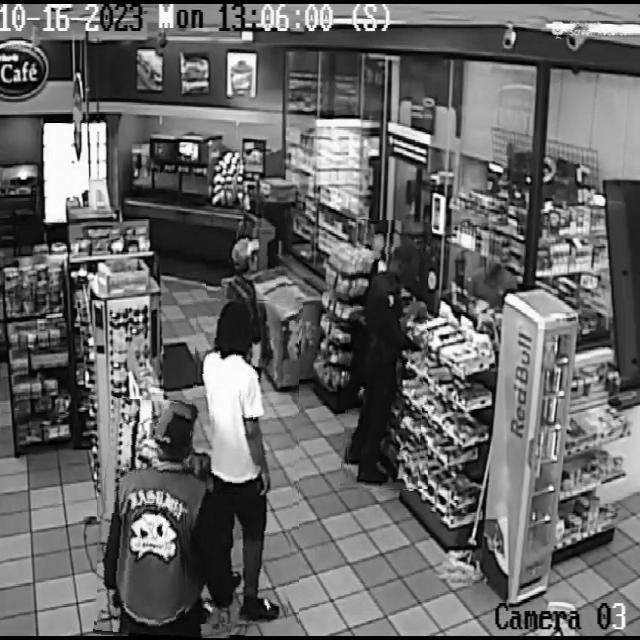Normal: (185, 299, 299, 624), (97, 400, 250, 640), (344, 220, 428, 490), (206, 229, 288, 343)
